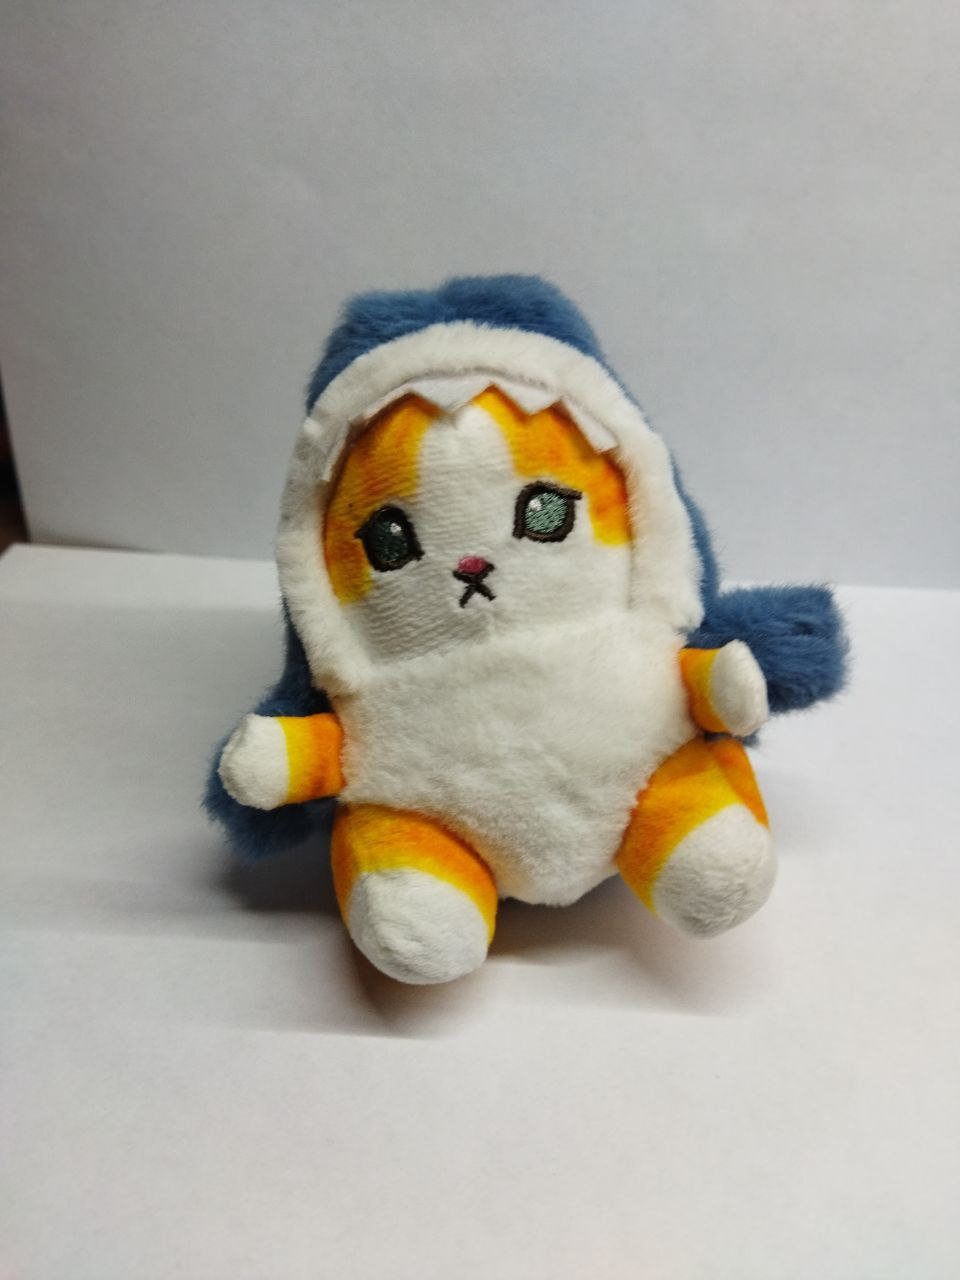Snark Cat: (207, 273, 845, 981)
